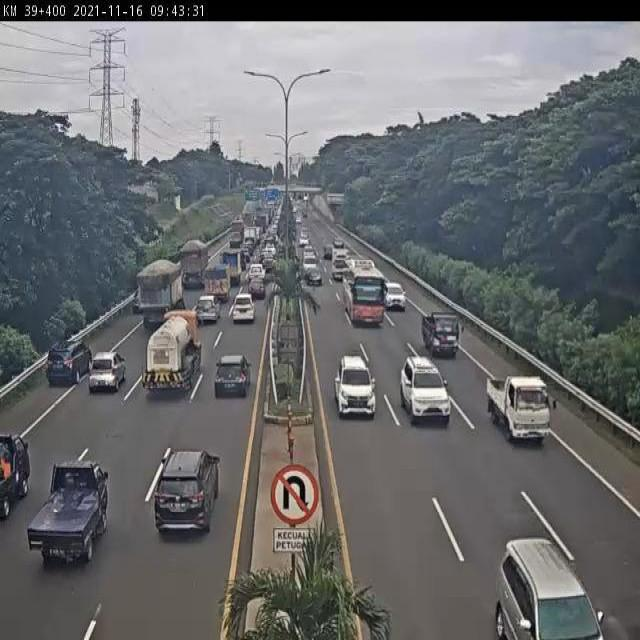big bus: (341, 257, 386, 327)
car: (498, 536, 604, 640), (26, 459, 112, 572), (153, 448, 220, 539), (401, 356, 452, 428), (334, 355, 376, 417), (45, 340, 92, 387), (212, 352, 253, 403), (88, 351, 127, 392), (380, 281, 407, 311), (233, 292, 256, 323), (196, 293, 219, 323), (249, 274, 267, 302)
small truck: (486, 374, 557, 446), (422, 309, 462, 360), (203, 264, 230, 301)
truck-l-: (137, 256, 187, 332), (180, 239, 211, 288)
truck-m-: (143, 308, 201, 397)
